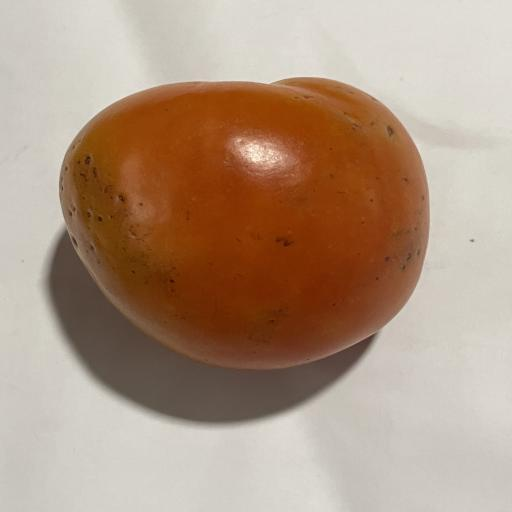ripe: (59, 78, 429, 369)
